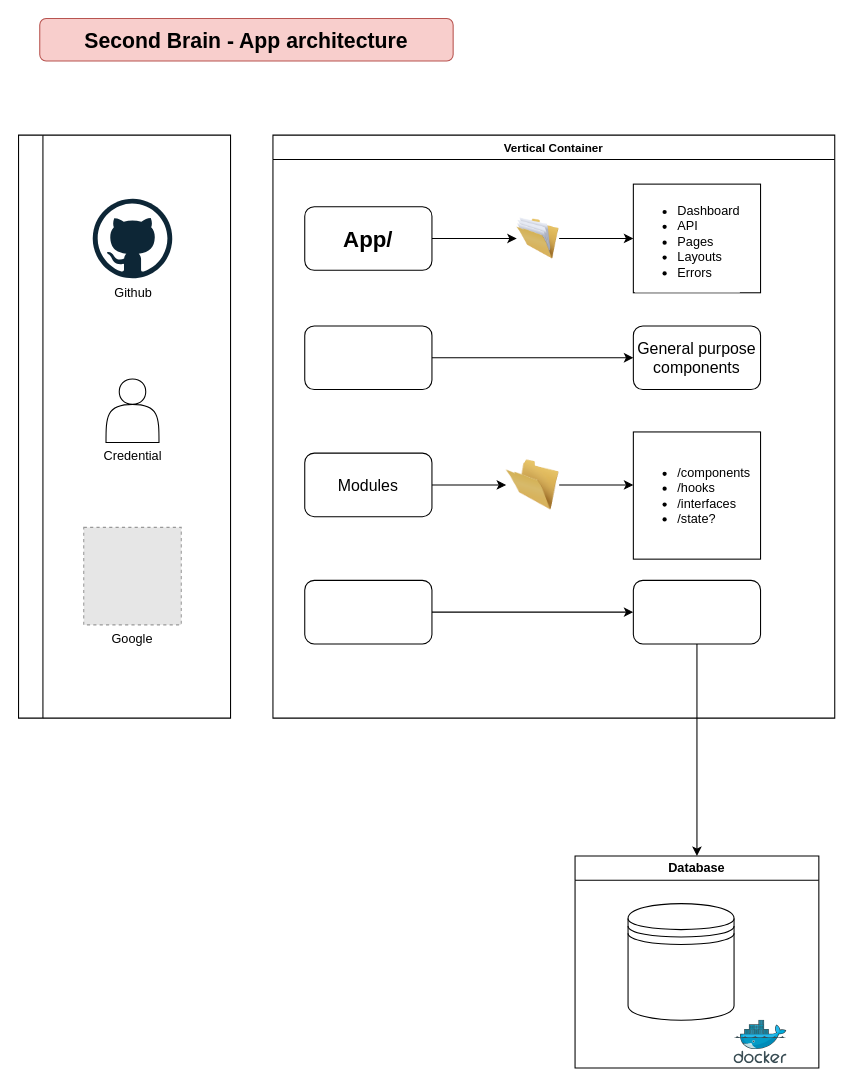
Some shapes in this 853 by 1087 pixel diagram are drawn without their labels. Grey dashed boxes stand in for pictures. The box of each missing label's shape, as (x1, y1, x2, y2) in pixels:
Auth Options Providers: (17, 134, 231, 718)
Components: (304, 325, 432, 390)
Lib: (304, 579, 432, 644)
ORM /configs: (632, 579, 761, 644)
PostgresSQL: (627, 903, 734, 1020)
